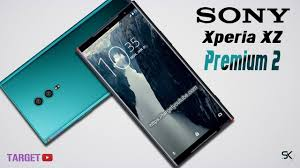sony: (73, 3, 236, 168)
